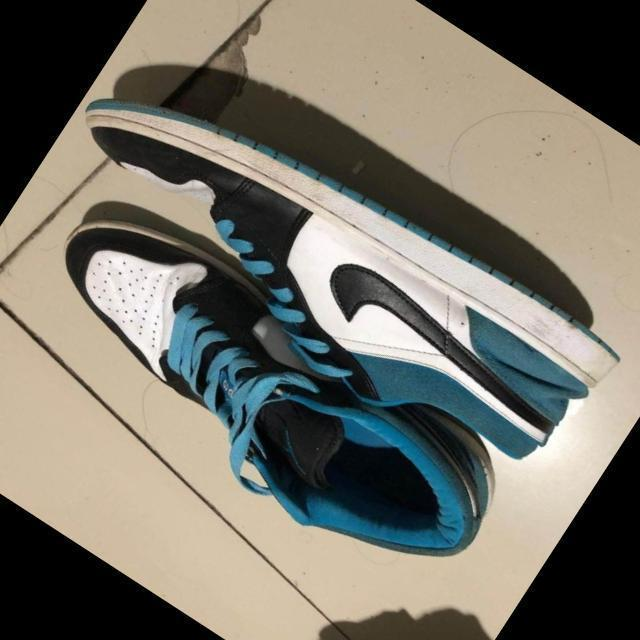nike fake jordan 1: (32, 31, 626, 506), (2, 178, 532, 611)
